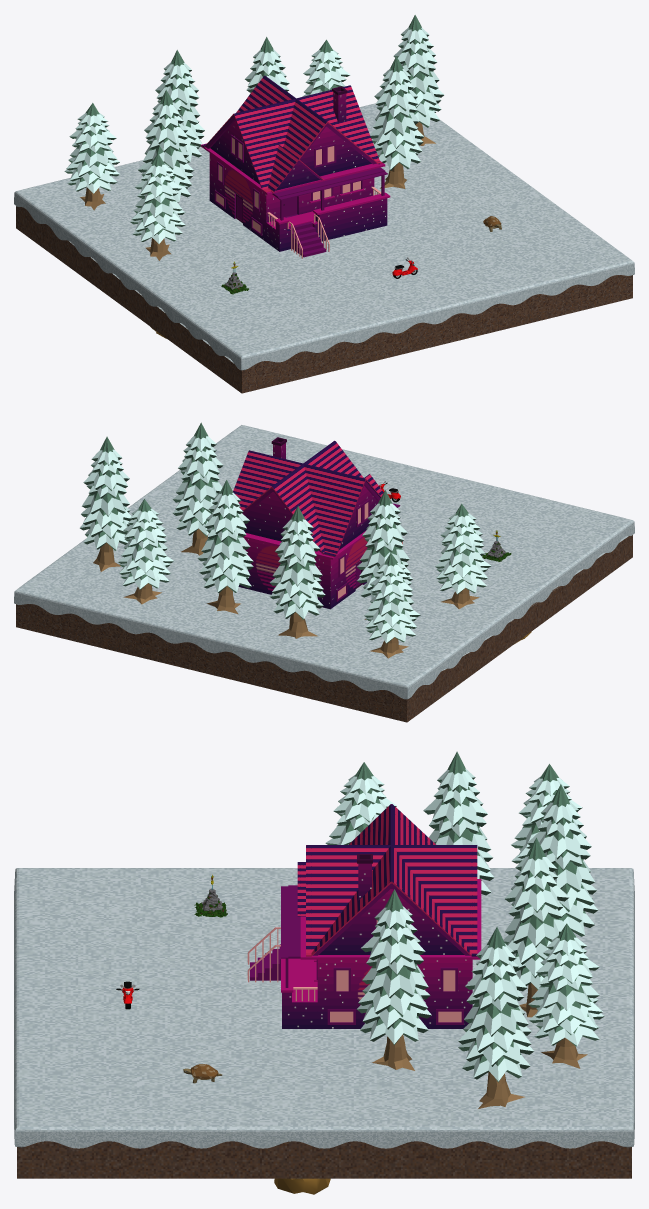
3 views of the same model, one above another, from view 1: azimuth 30°, elevation 25°; view 2: azimuth 150°, elevation 25°; view 3: azimuth 270°, elevation 25° (orthographic). The views are drawn at different scales.
Visible parts, largest first — view 1: Cube.003, Cube.156; view 2: Cube.003, Cube.156; view 3: Cube.003, Cube.156, UNDERGROUND_T_REX_BONES, OBJRANDOM_SWORD_IN_THE_STONE.
Boxes of the visible parts, box(x1,y1,x2,y2) form: Cube.003: box(14, 15, 634, 393); Cube.156: box(201, 75, 390, 258); Cube.003: box(14, 422, 634, 722); Cube.156: box(233, 437, 402, 609); Cube.003: box(14, 751, 634, 1178); Cube.156: box(247, 804, 481, 1028); UNDERGROUND_T_REX_BONES: box(274, 1178, 330, 1194); OBJRANDOM_SWORD_IN_THE_STONE: box(194, 874, 227, 917).
Size of the model in its own units: 4040 by 1805 by 4040.
Materials: 37 (5 with a texture image).
